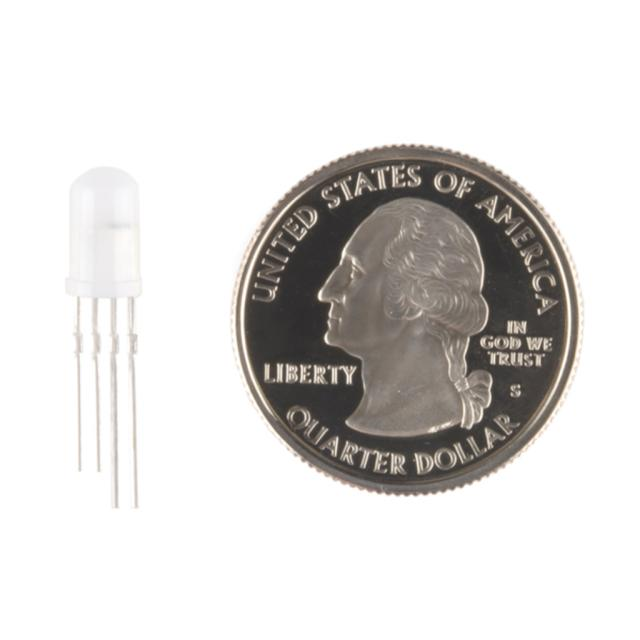Coin: (228, 142, 583, 497)
